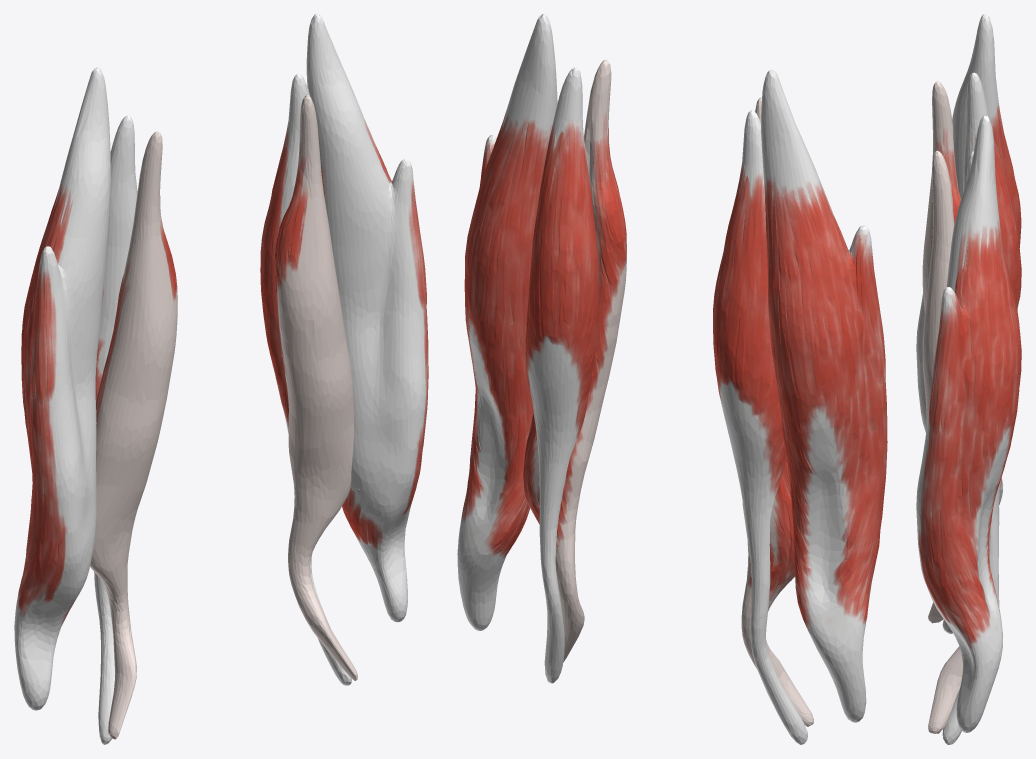
The model's file is SubTool-12-1471775.OBJ.
3 renders of one model, left to right at view 1: azimuth 30°, elevation 25°; view 2: azimuth 150°, elevation 25°; view 3: azimuth 270°, elevation 25°, orthographic. The views are drawn at different scales.
Parts seen in each view (by area): view 1: Group8318; view 2: Group8318; view 3: Group8318.
Boxes of the visible parts, <box> form: Group8318: <box>14,14,428,744</box>; Group8318: <box>457,14,887,744</box>; Group8318: <box>916,14,1021,744</box>.
Bounding box in the file's own units: 11.06 × 17.8 × 2.72.
Materials: 1 (1 with a texture image).
